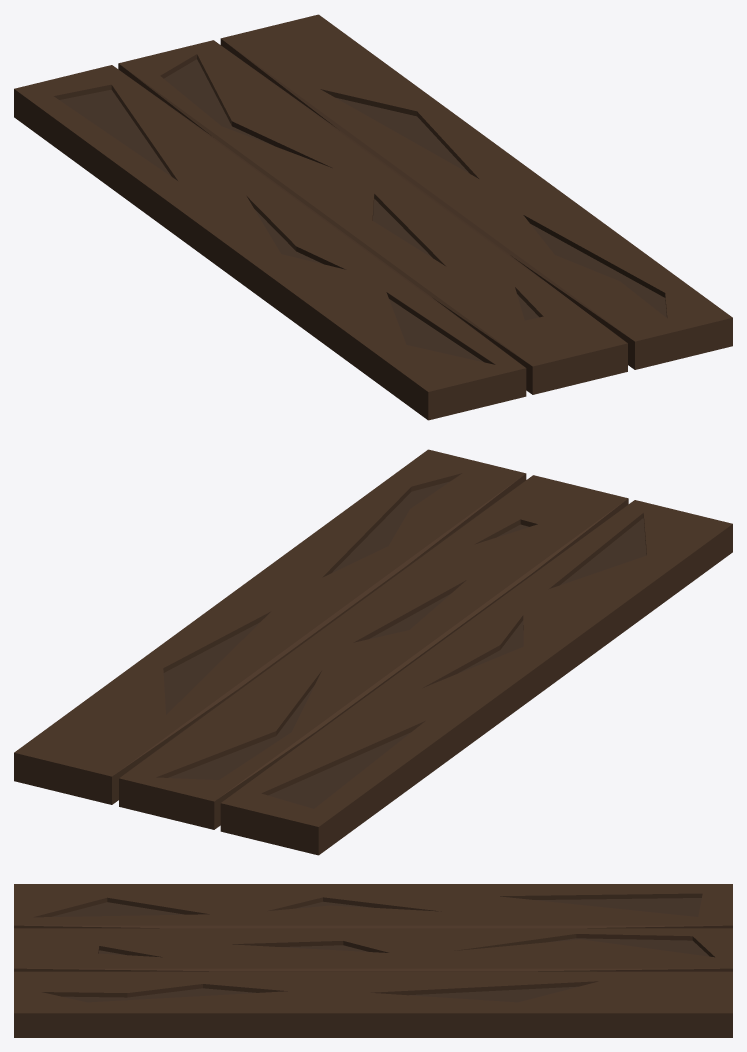
Rendered from planche forteresse 3.fbx.
3 views of the same model, one above another, from view 1: azimuth 30°, elevation 25°; view 2: azimuth 150°, elevation 25°; view 3: azimuth 270°, elevation 25° (orthographic). The views are drawn at different scales.
Visible parts, largest first — view 1: Cube.002; view 2: Cube.002; view 3: Cube.002.
Part boxes in pixels (x1,y1,x2,y2): Cube.002: (14,14,732,420); Cube.002: (14,449,732,855); Cube.002: (14,884,732,1037).
Size of the model in its own units: 456 by 40.74 by 1075.
